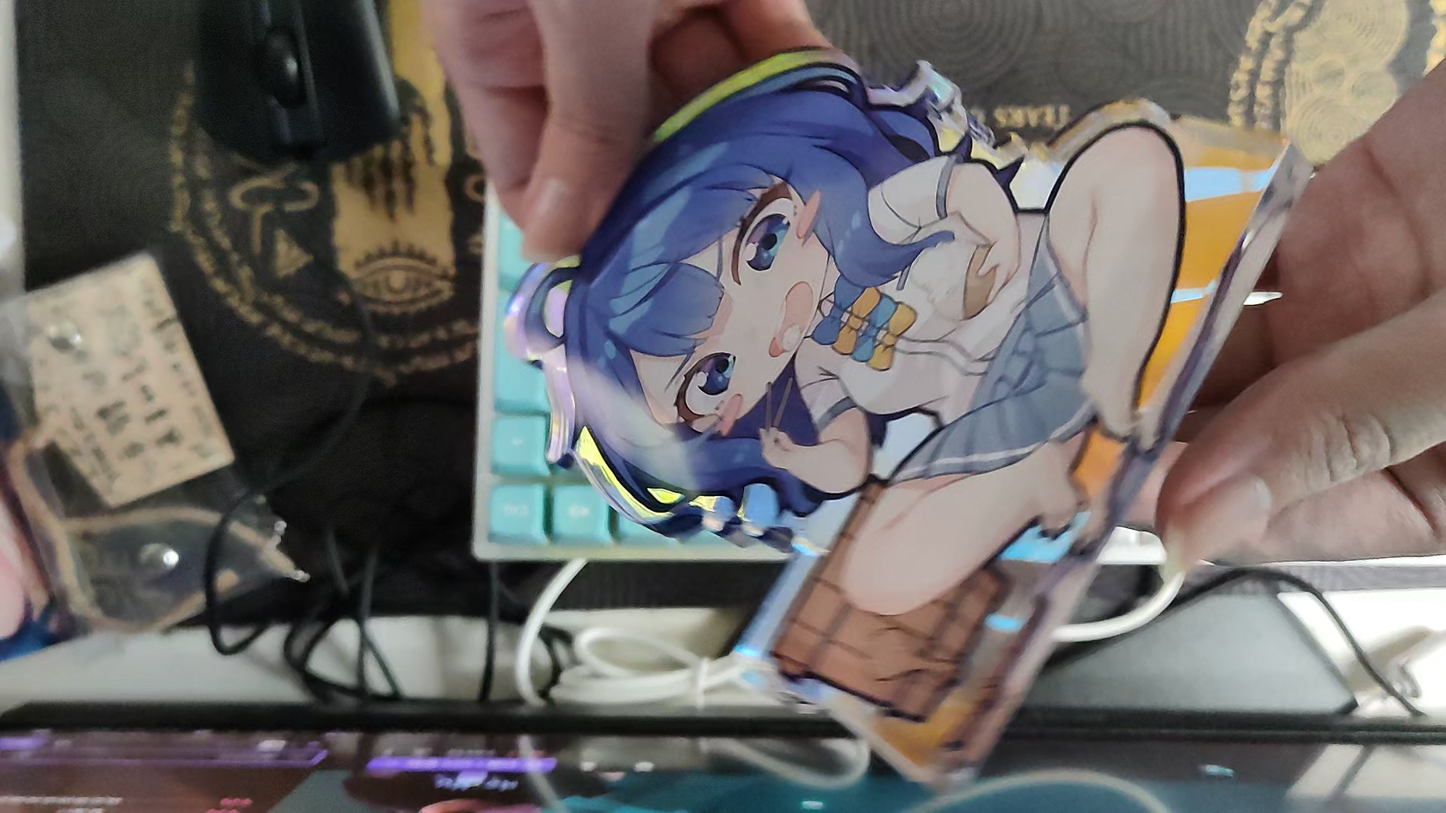Yanami-anna: (501, 48, 1314, 793)
